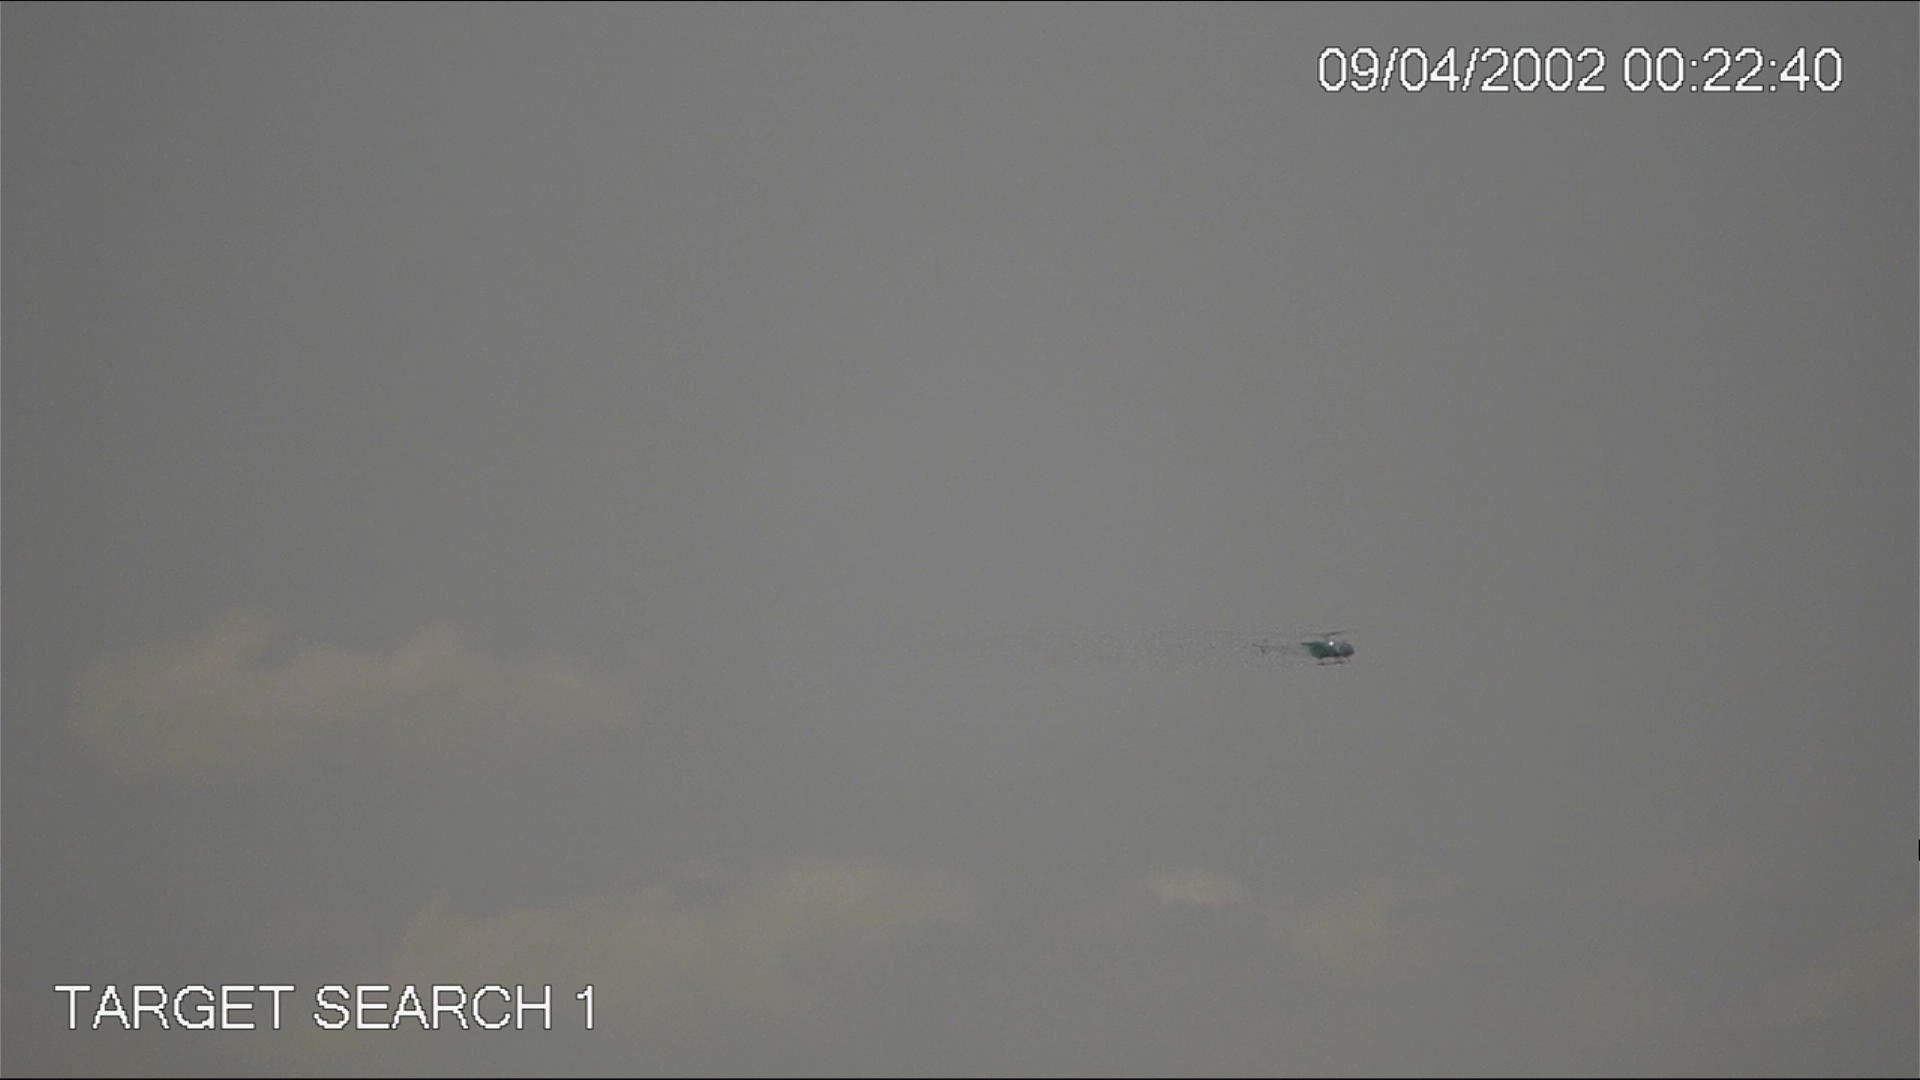SU_30: (1254, 622, 1356, 667)
